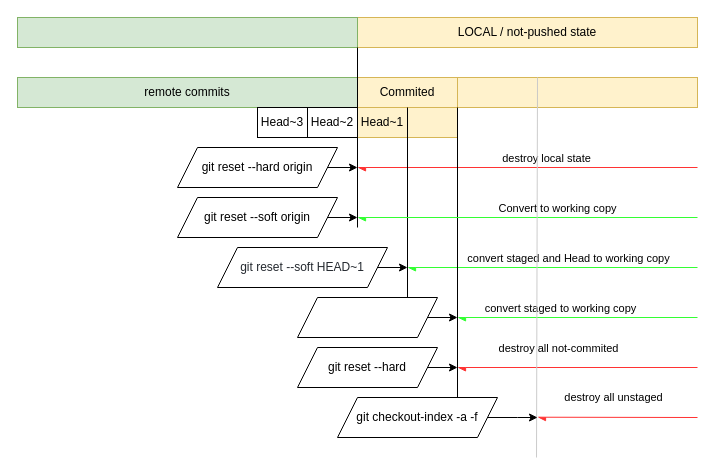
The diagram is 723 pixels wide and 476 high, and some of its shapes have lost their labels. Here are the shapes that lost their labels. From the top down, the centre of each, then its label:
pixel 187 32: REMOTE
pixel 497 92: Staged
pixel 617 92: WorkingCopy
pixel 432 122: Head
pixel 367 317: git reset
